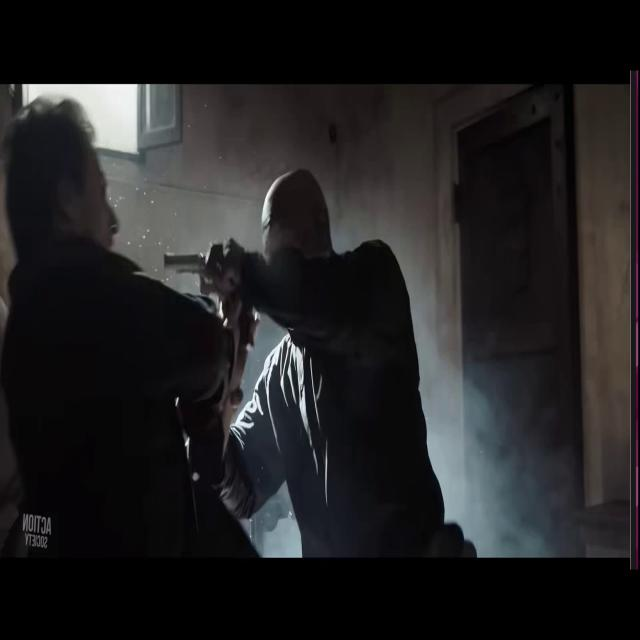weapons: (158, 228, 248, 310)
